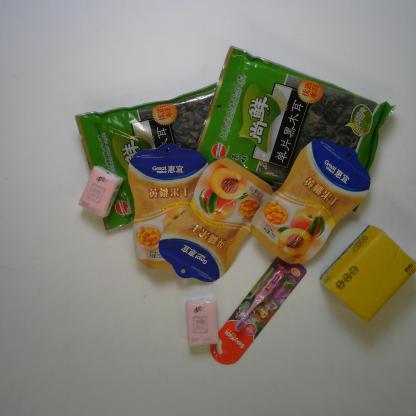Dried Food: (195, 44, 397, 214), (73, 82, 219, 232)
Dried Fruit: (248, 137, 372, 266), (157, 157, 273, 284), (126, 142, 210, 271)
Personal Hygiene: (208, 256, 308, 366)
Tissue: (318, 223, 416, 324), (76, 164, 124, 218), (185, 298, 221, 347)
